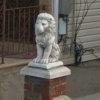Statue: (23, 9, 66, 80)
